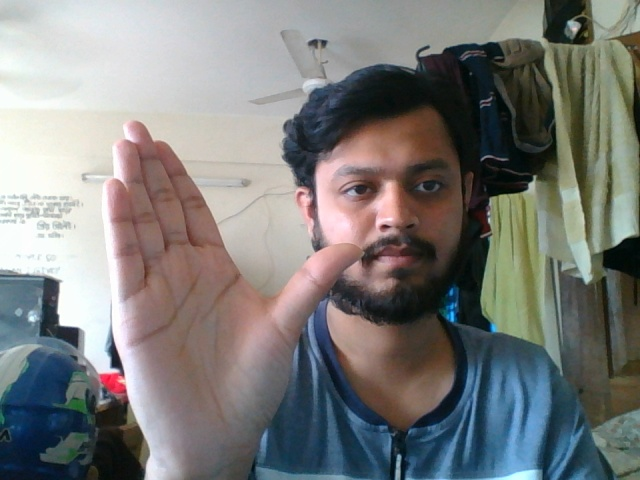a: (73, 109, 368, 480)
